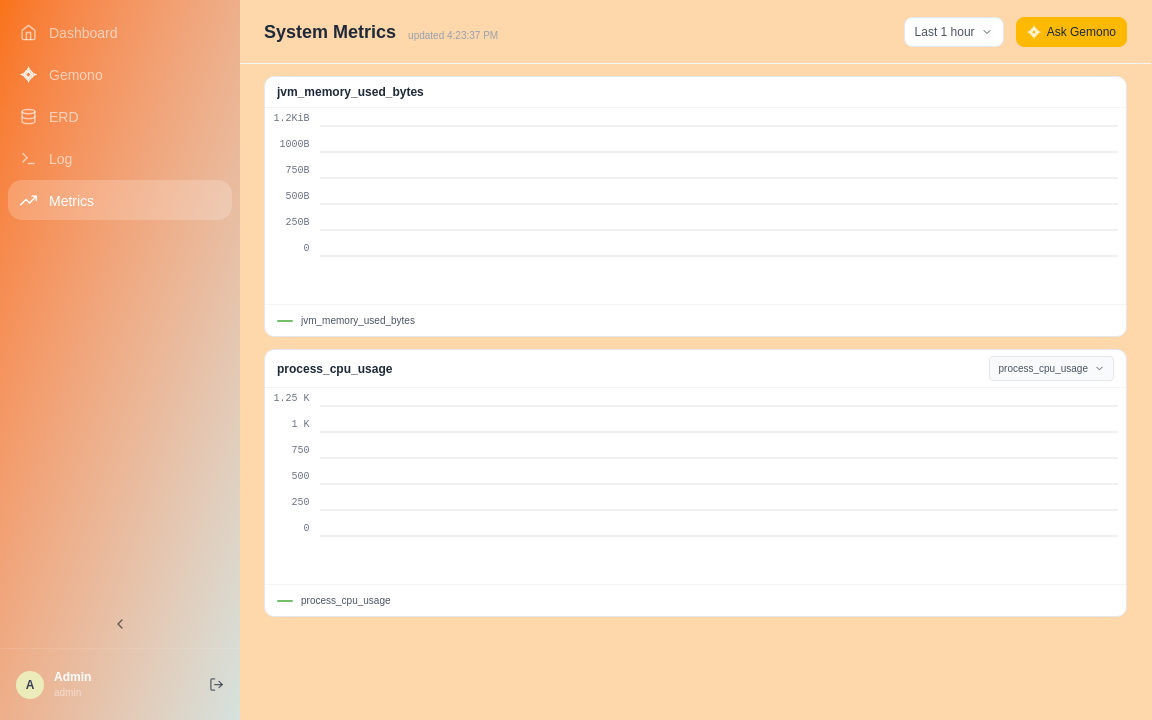
Test: MetricsPage › dropdown metrik hanya menampilkan nama runtime dan bisa difilter
Click the button "process_cpu_usage": (1052, 368) [990,356,1114,381]
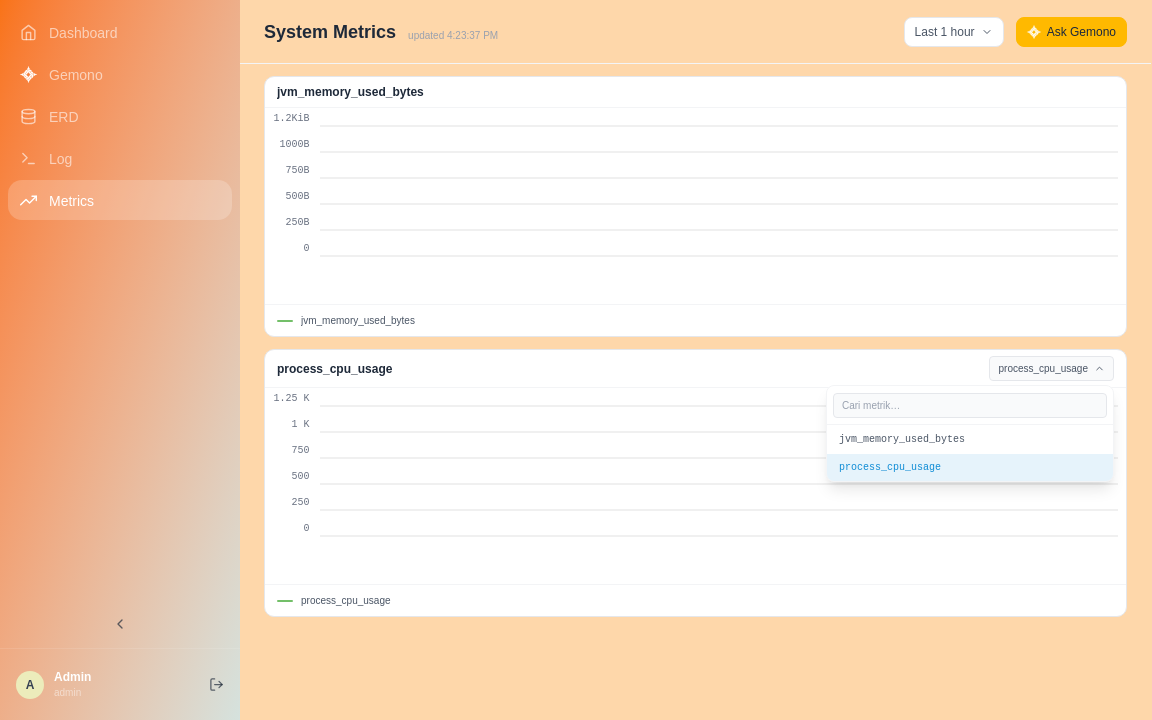
In the field with id "metric-search": (970, 406) [833,393,1107,418], type "memory"
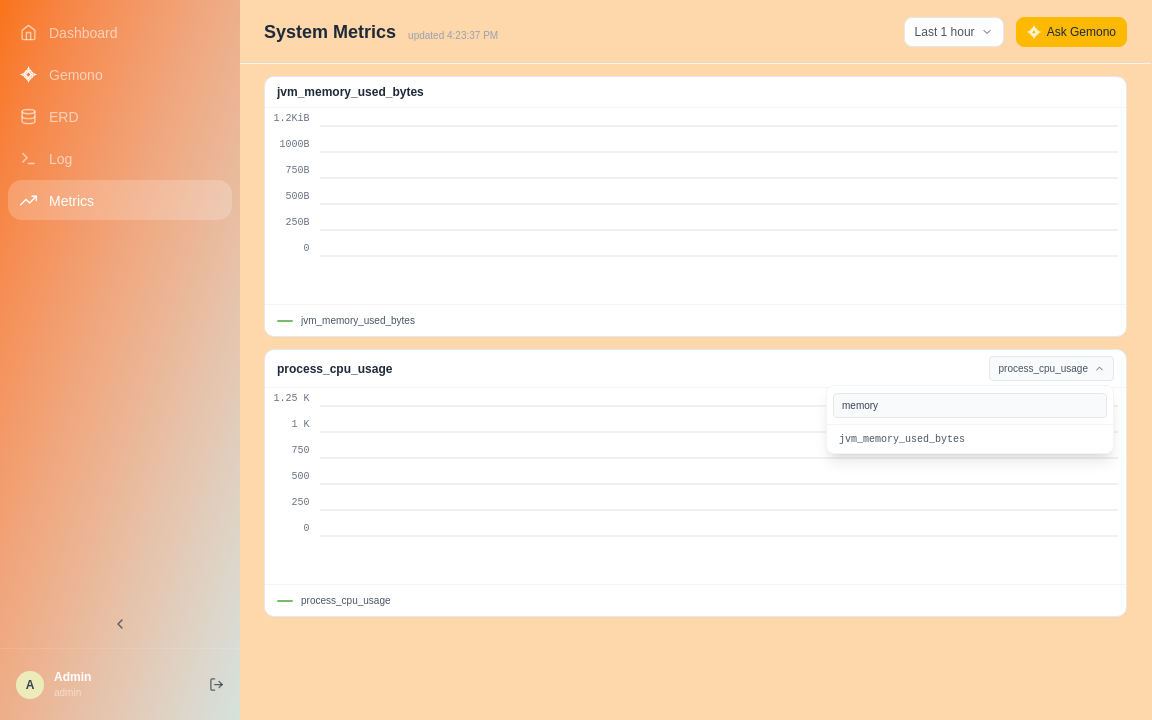
Click the button "jvm_memory_used_bytes": (902, 440) [827,426,1113,453]
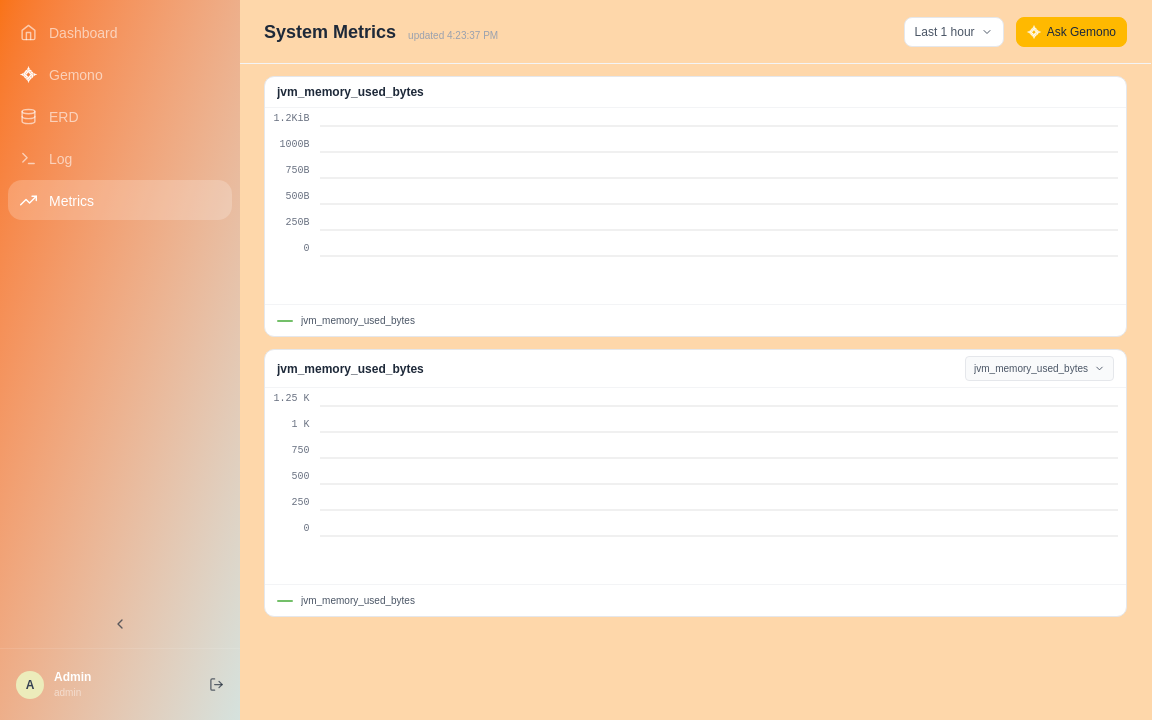
Expected: the 1st text "jvm_memory_used_bytes" is shown, [277,83,424,101]
Expected: the button "jvm_memory_used_bytes" is shown, [965,356,1114,381]
